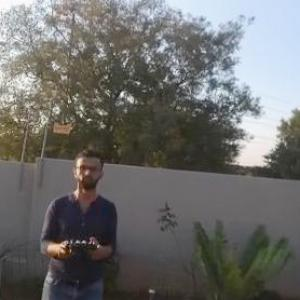follow: (30, 140, 119, 299)
